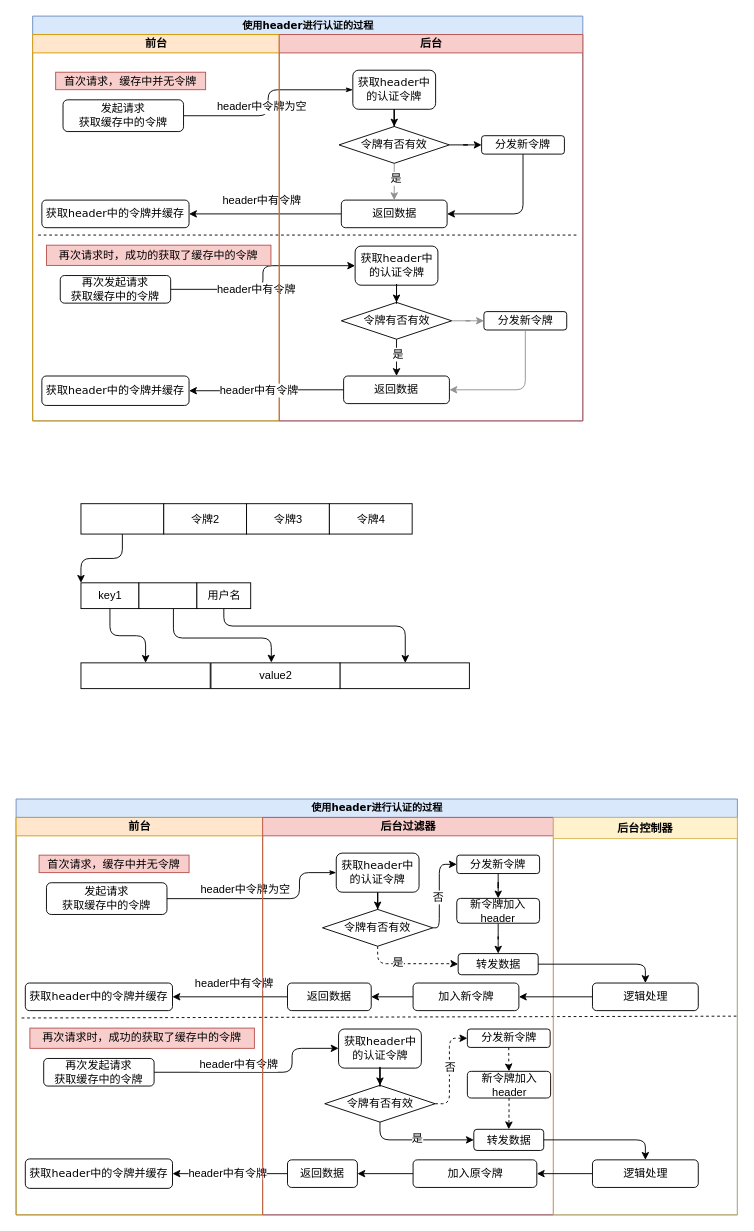
This 754x1231 diagram has some shape labels left out. The shapes that lost their labels are listed below. From the top down, each one's centre as x and y in pixels, then its label:
(x=122, y=518): 令牌1
(x=167, y=595): key2
(x=145, y=675): value1
(x=404, y=675): zhangsan
